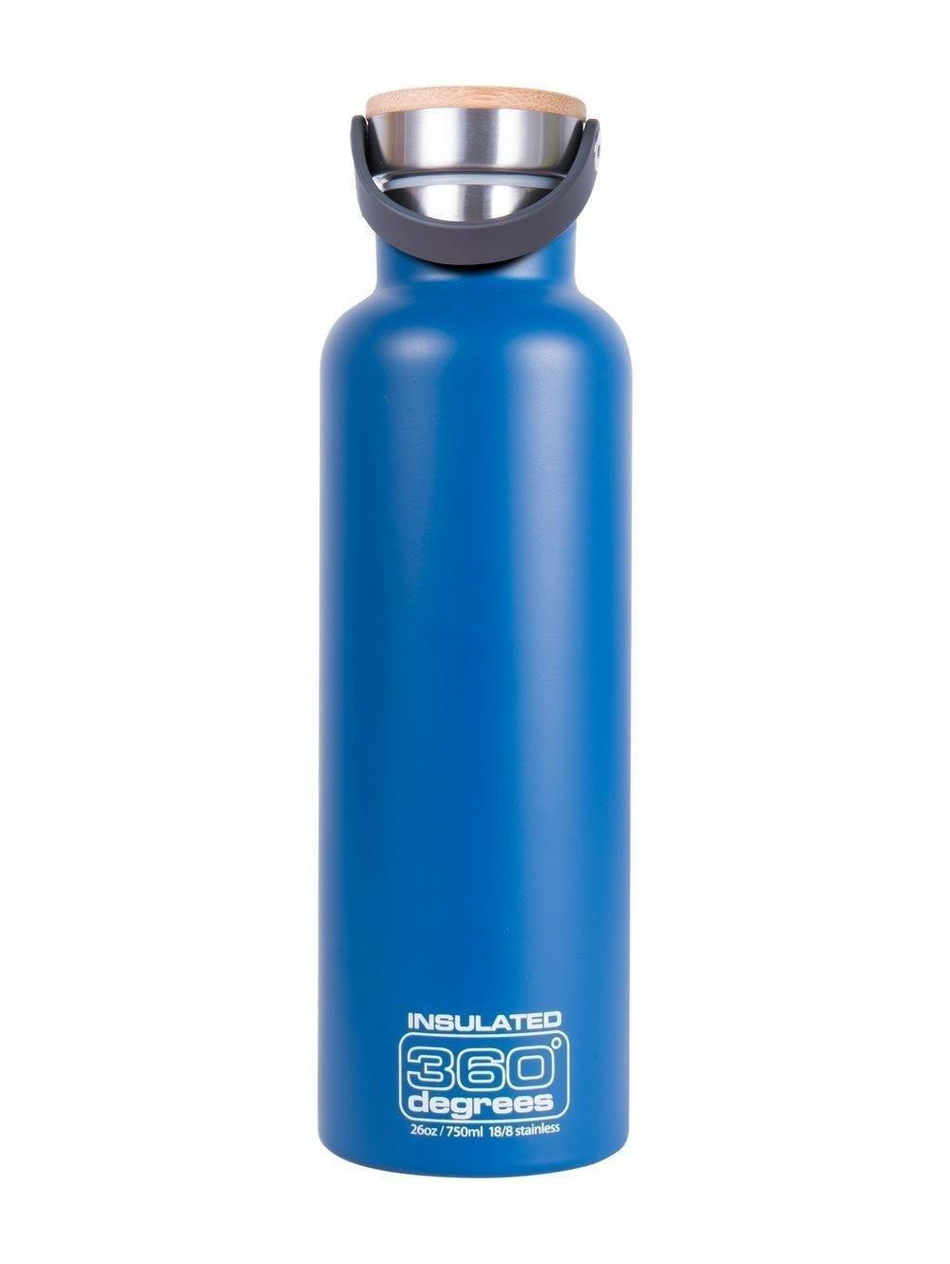gym bottle: (308, 84, 644, 1184)
